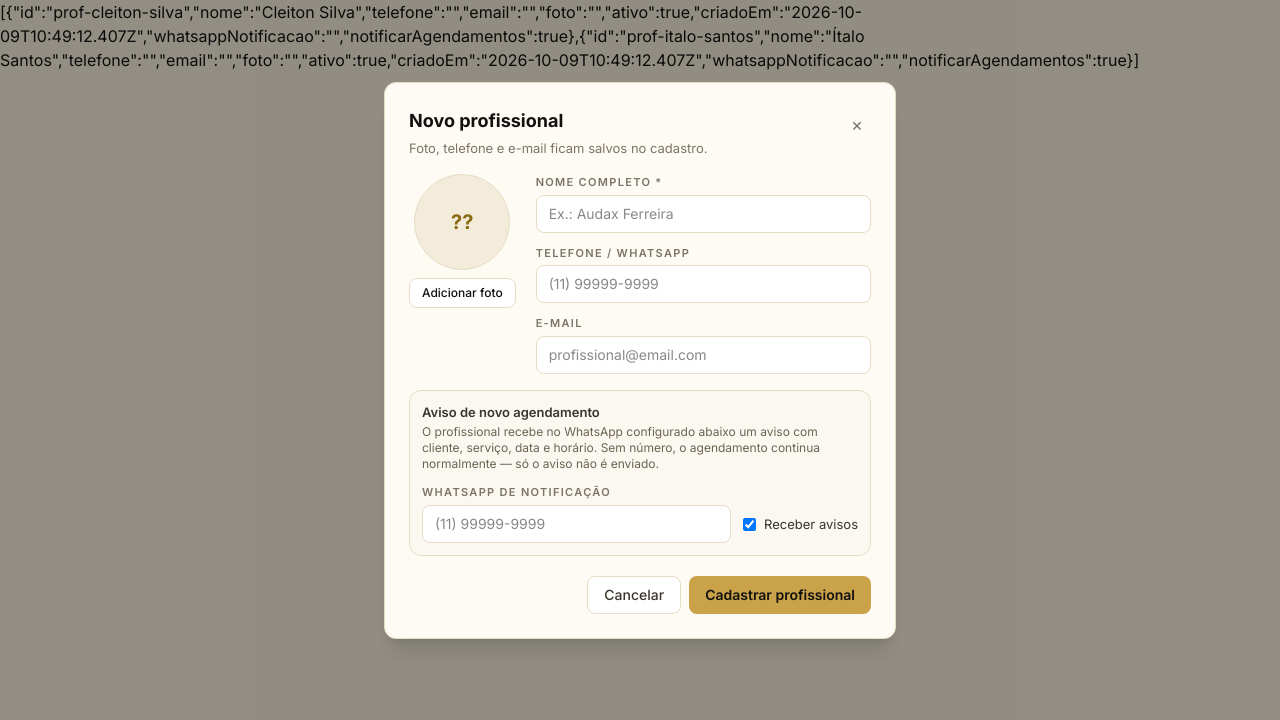
Test: ProfissionalFormModal — WhatsApp de notificação › recusa WhatsApp inválido com mensagem clara
Step 1. Type "Número Ruim" into the field labelled "Nome completo *" → (703, 214), box [536,194,871,232]
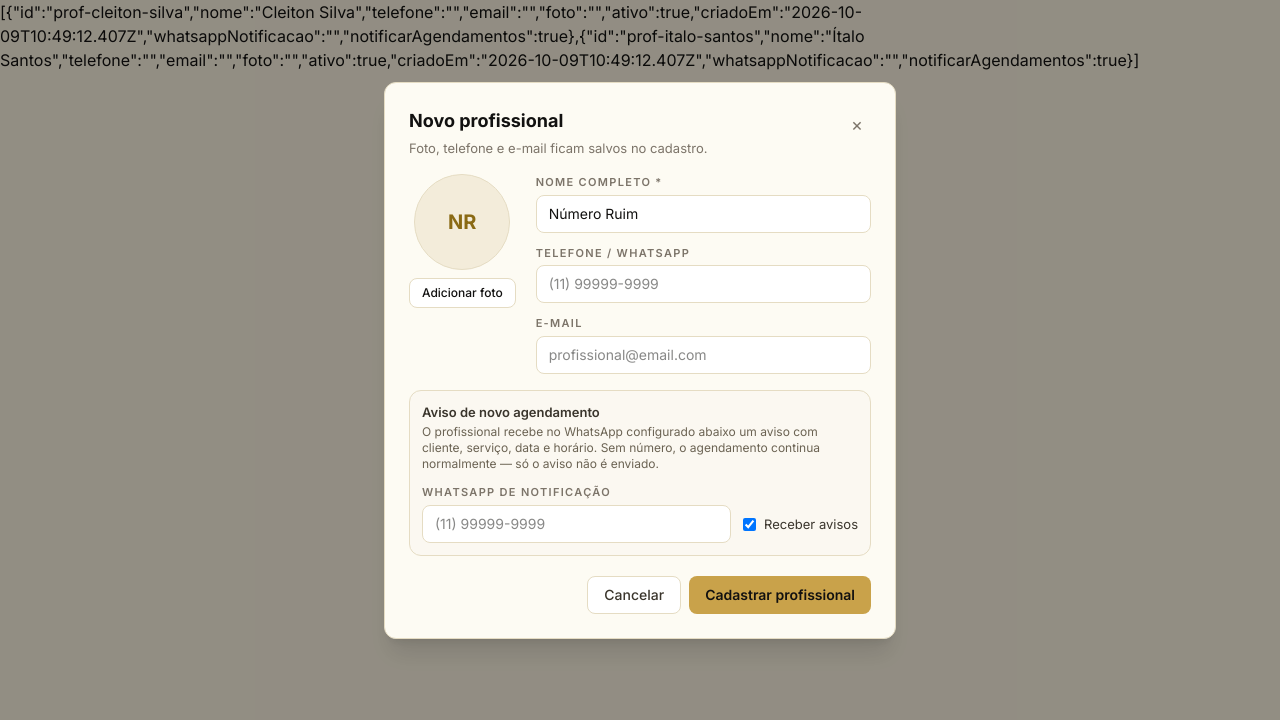
Step 2. Type "123" into the field labelled "WhatsApp de notificação" → (577, 524), box [422,504,731,542]
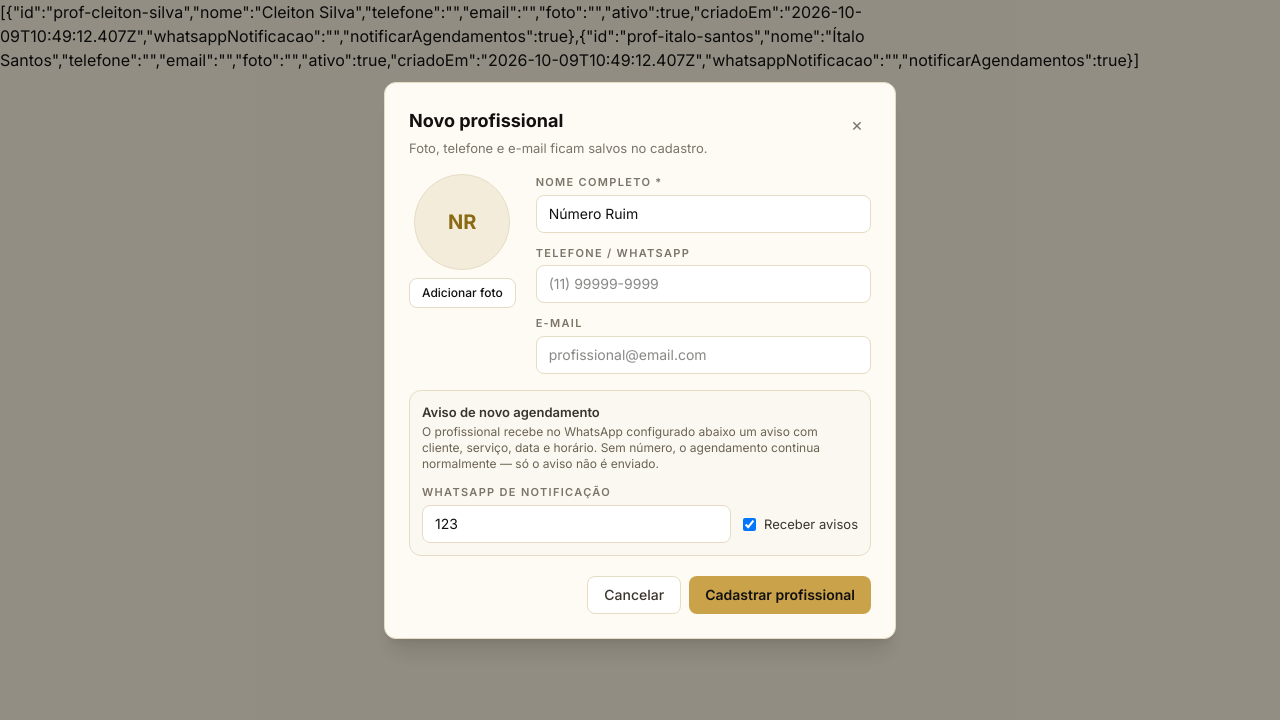
Step 3. Click the button "Cadastrar profissional" → (780, 594), box [689,576,871,614]
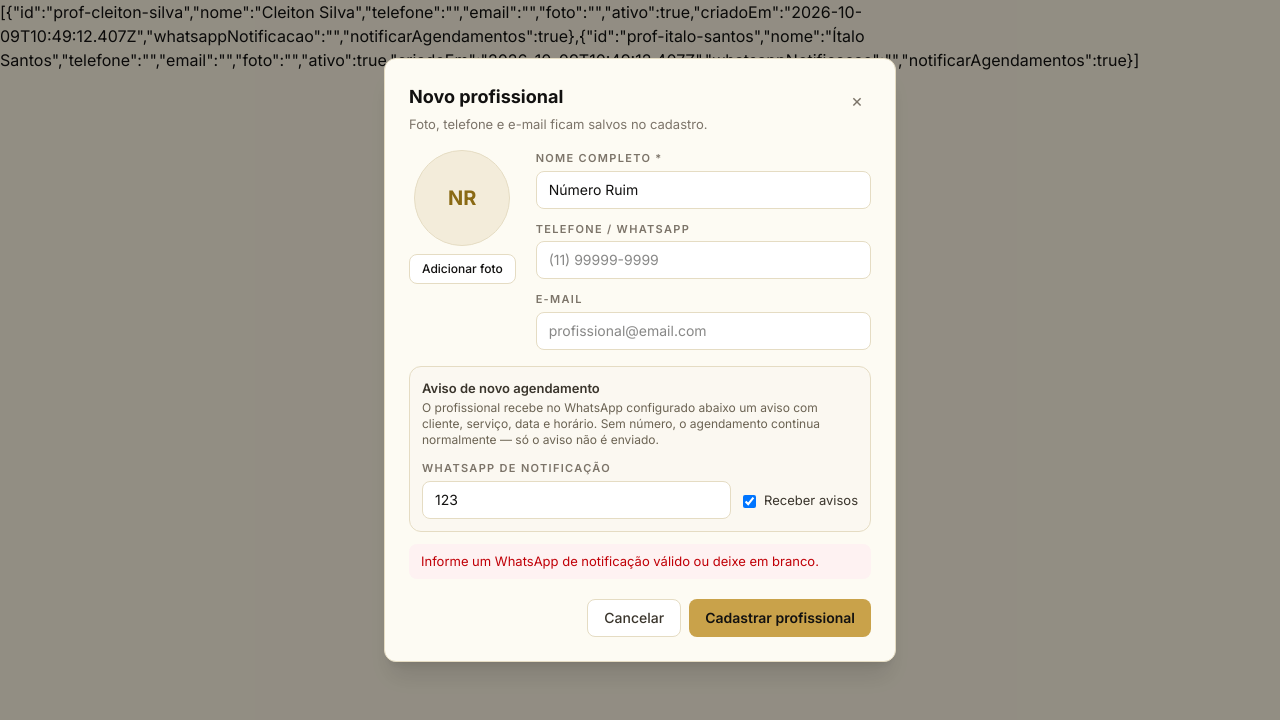
Check: the text "WhatsApp de notificação válido" is shown, box [421,553,819,569]
